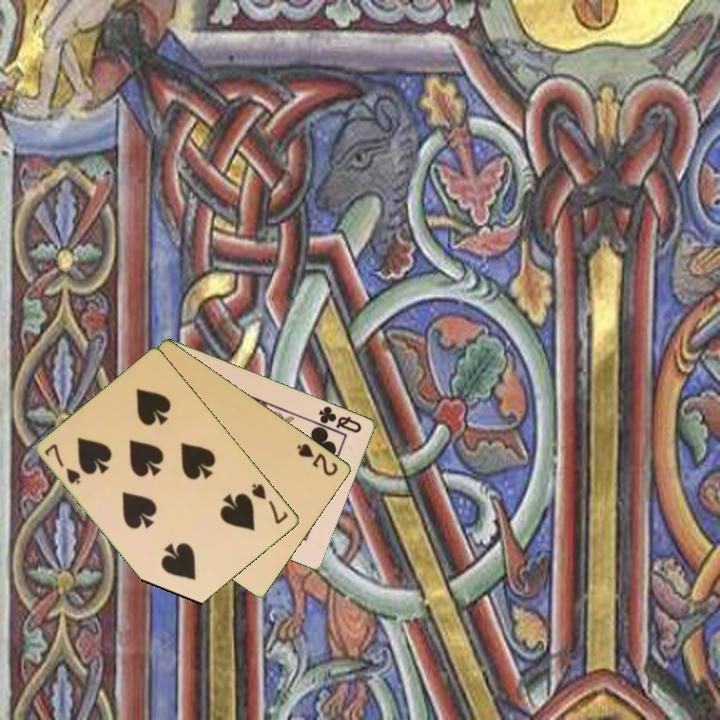2s: (293, 439, 341, 479)
7s: (248, 480, 291, 527), (41, 440, 84, 487)
Qc: (315, 402, 365, 436)
